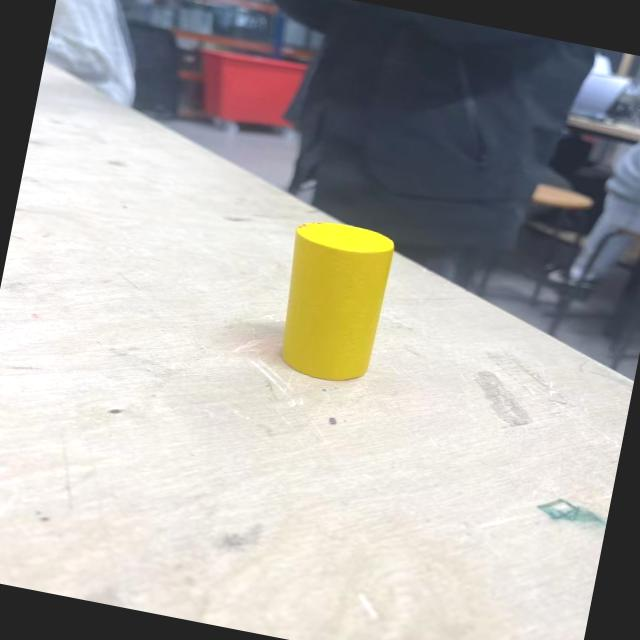yellow_cylinder: (268, 214, 397, 388)
